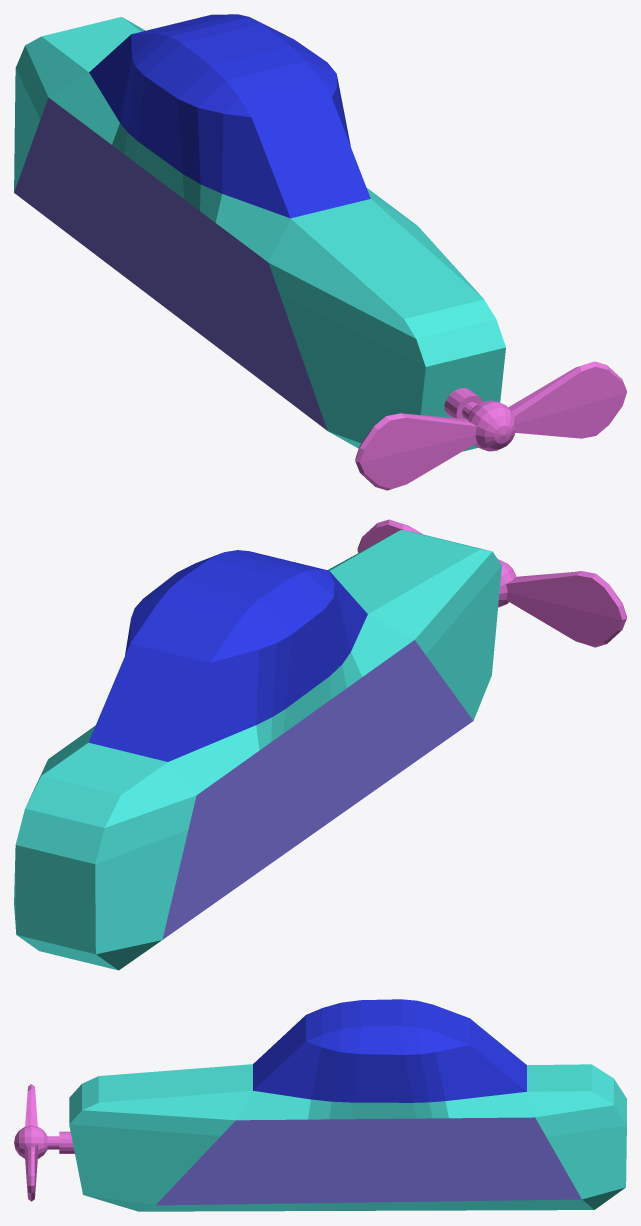
Rendered from player.glb.
The picture shows the model from 3 angles, top to bottom: view 1: azimuth 30°, elevation 25°; view 2: azimuth 150°, elevation 25°; view 3: azimuth 270°, elevation 25°; orthographic projection. The views are drawn at different scales.
Parts seen in each view (by area): view 1: Cube, Sphere; view 2: Cube, Sphere; view 3: Cube, Sphere.
Part boxes in pixels (x1=…): Cube: x1=14, y1=14, x2=505, y2=451; Sphere: x1=355, y1=361, x2=626, y2=490; Cube: x1=14, y1=530, x2=501, y2=970; Sphere: x1=357, y1=519, x2=626, y2=647; Cube: x1=69, y1=999, x2=626, y2=1211; Sphere: x1=14, y1=1084, x2=74, y2=1201.
Size of the model in its own units: 7.59 by 7.3 by 21.82.
